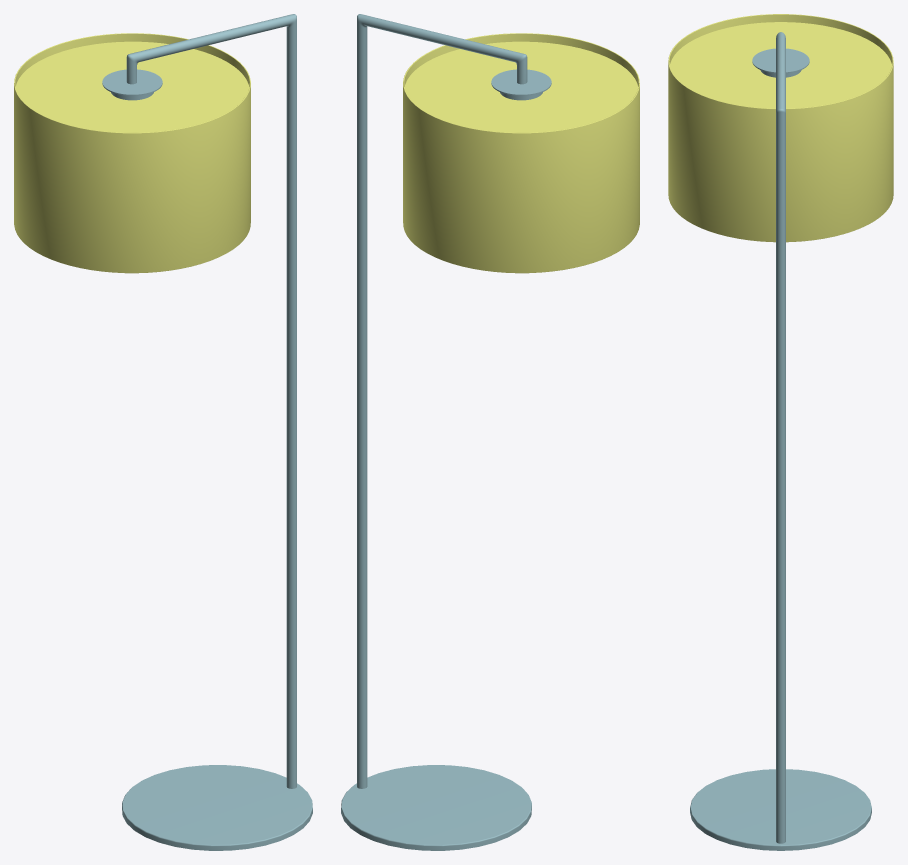
File: Floor_Lamp_Gen_3.fbx
The picture shows the model from 3 angles, left to right: view 1: azimuth 30°, elevation 25°; view 2: azimuth 150°, elevation 25°; view 3: azimuth 270°, elevation 25°; orthographic projection. The views are drawn at different scales.
Parts seen in each view (by area): view 1: mesh_shade, mesh_lamp; view 2: mesh_shade, mesh_lamp; view 3: mesh_shade, mesh_lamp.
Part boxes in pixels (left/top/right/bottom): mesh_shade: left=14, top=33, right=250, bottom=273; mesh_lamp: left=102, top=14, right=312, bottom=850; mesh_shade: left=403, top=33, right=639, bottom=273; mesh_lamp: left=341, top=14, right=551, bottom=850; mesh_shade: left=668, top=14, right=893, bottom=242; mesh_lamp: left=690, top=32, right=871, bottom=850.
Size of the model in its own units: 60.37 by 166 by 45.82.
